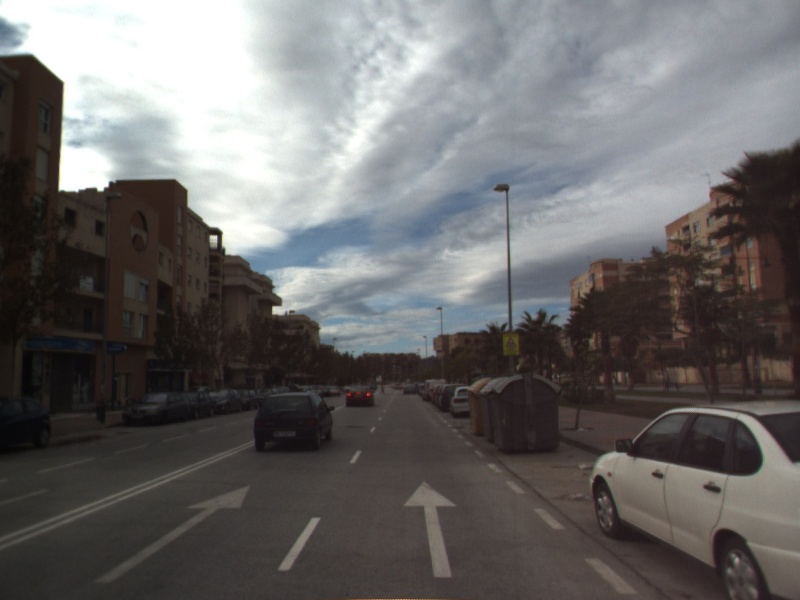STRAIGHT: (92, 482, 252, 586), (401, 478, 460, 580)
